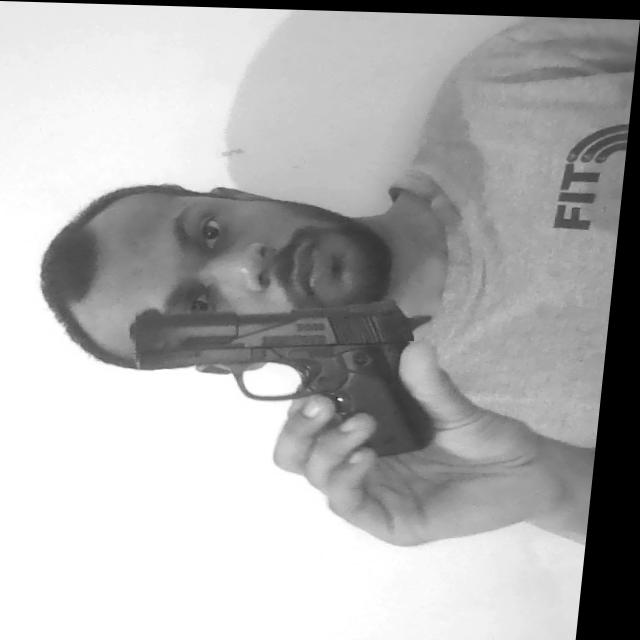handgun: (123, 289, 457, 453)
